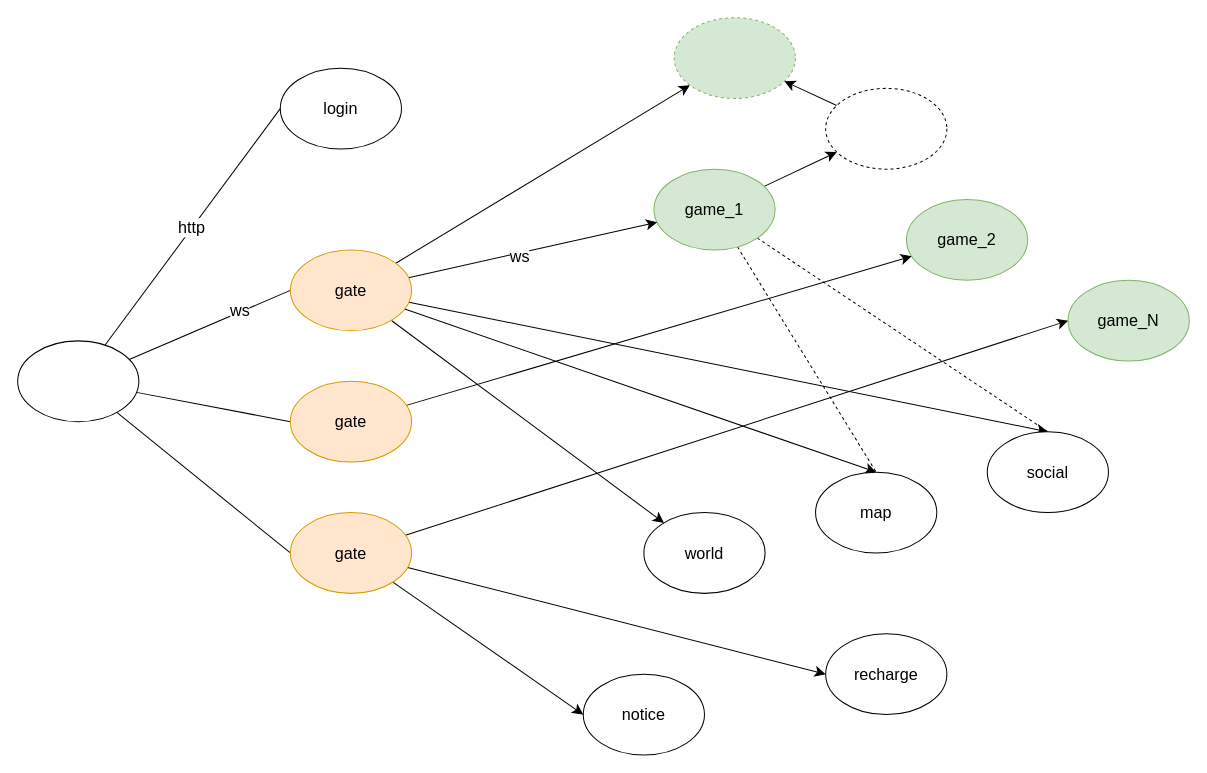
Image size: 1207x773. Some labels were removed from this diagram. The centre of each missing label's shape, as x and y in pixels:
game_1-new: the point at 734,57
nginx: the point at 78,381
redis: the point at 886,128
